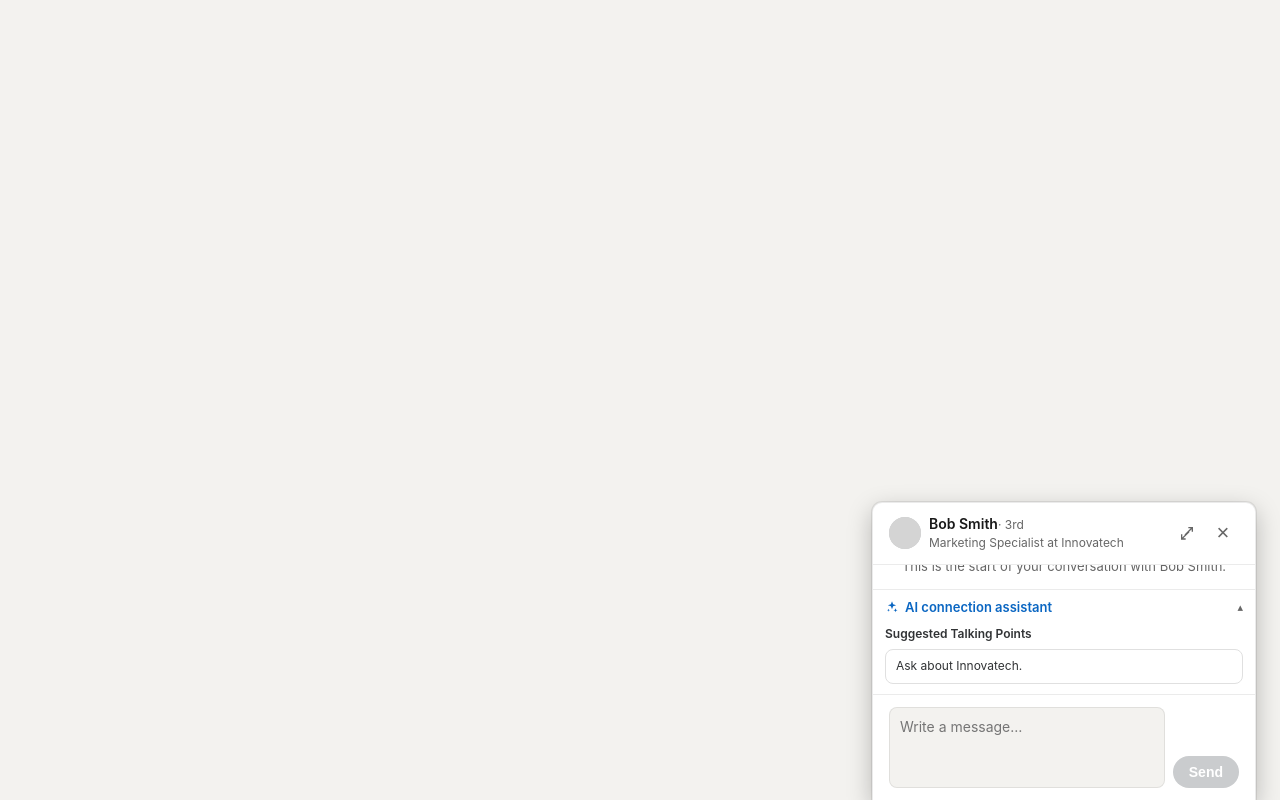
Scenario: NudgeChat › expands into the LinkedIn-style compose layout
The image size is (1280, 800).
(page scrolled)
Click the button named "Expand message window".
click(1187, 533)  # box [1171, 517, 1203, 549]
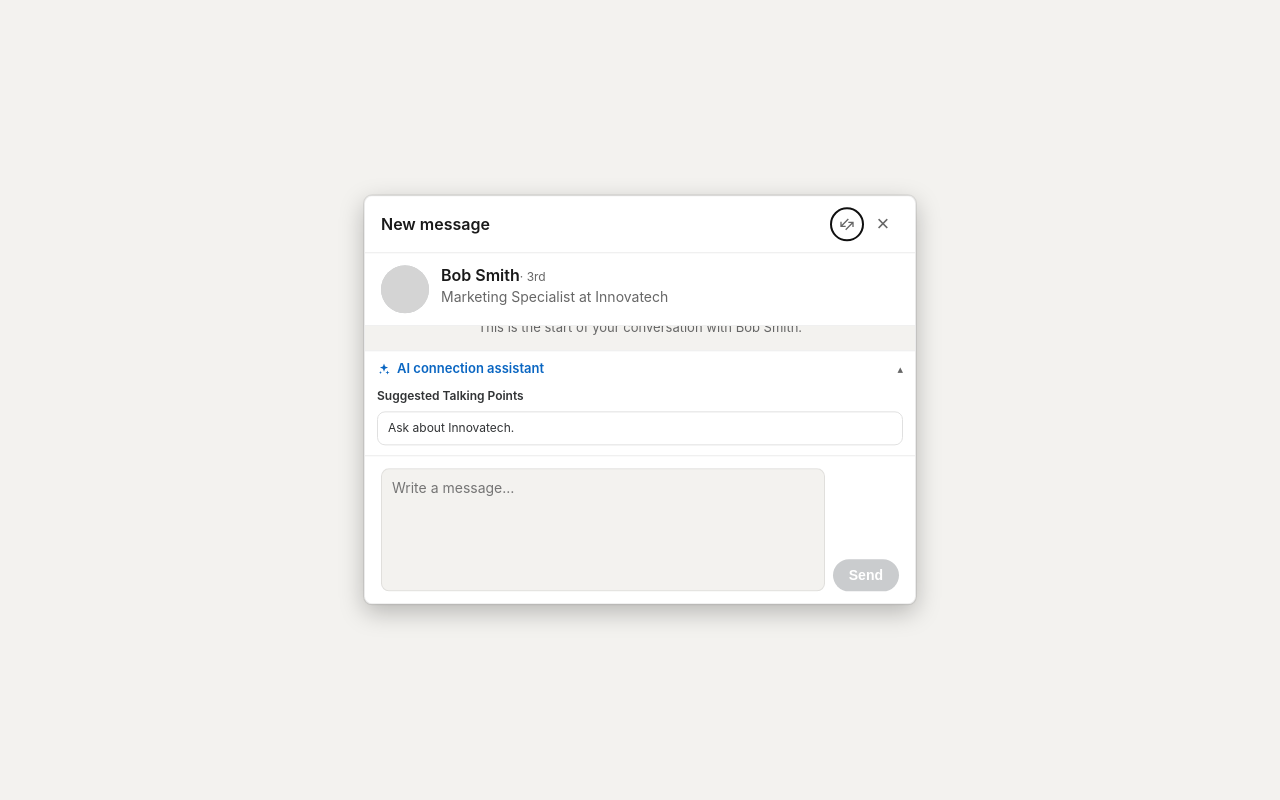
Expected: the heading "New message" is shown, [381, 212, 490, 236]
